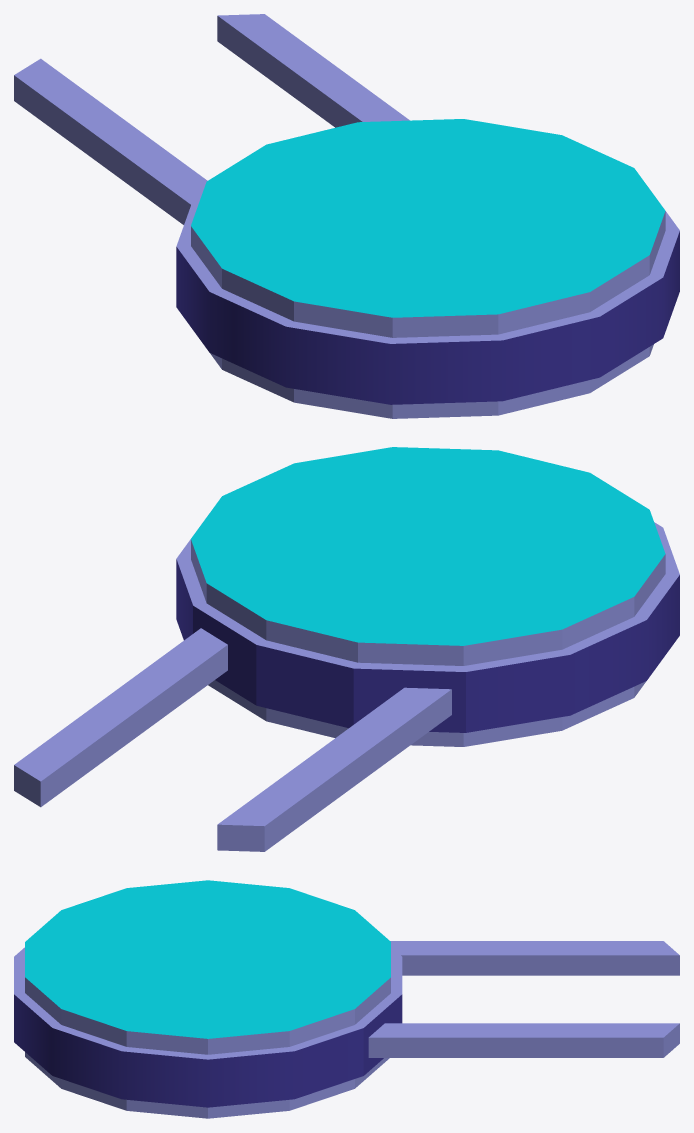
Rendered from board1.fbx.
The picture shows the model from 3 angles, top to bottom: view 1: azimuth 30°, elevation 25°; view 2: azimuth 150°, elevation 25°; view 3: azimuth 270°, elevation 25°; orthographic projection. The views are drawn at different scales.
Visible parts, largest first — view 1: board1; view 2: board1; view 3: board1.
Boxes of the visible parts, x1,y1,x2,y2 form: board1: (14, 14, 679, 418); board1: (14, 447, 679, 851); board1: (14, 880, 679, 1118).
Bounding box in the file's own units: 8.8 × 1.94 × 14.71.
